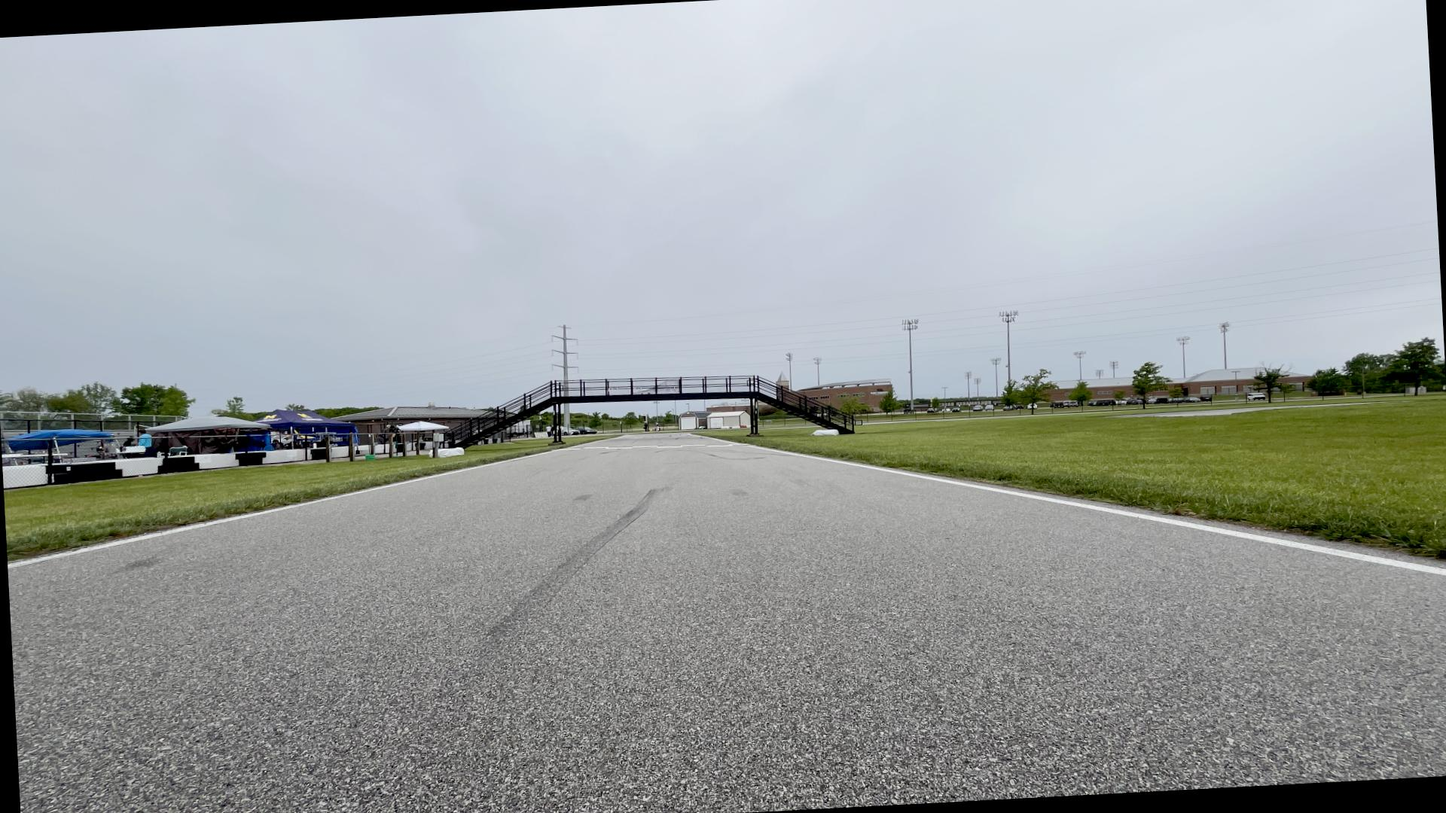white-line: (867, 465, 1101, 513), (1259, 533, 1445, 580), (1093, 506, 1266, 544), (191, 506, 288, 528), (132, 519, 221, 542), (427, 459, 515, 479), (788, 451, 872, 471), (62, 537, 139, 556), (348, 477, 429, 495), (268, 494, 349, 512), (8, 551, 72, 569), (734, 443, 789, 454), (511, 449, 557, 462), (8, 556, 46, 570)
